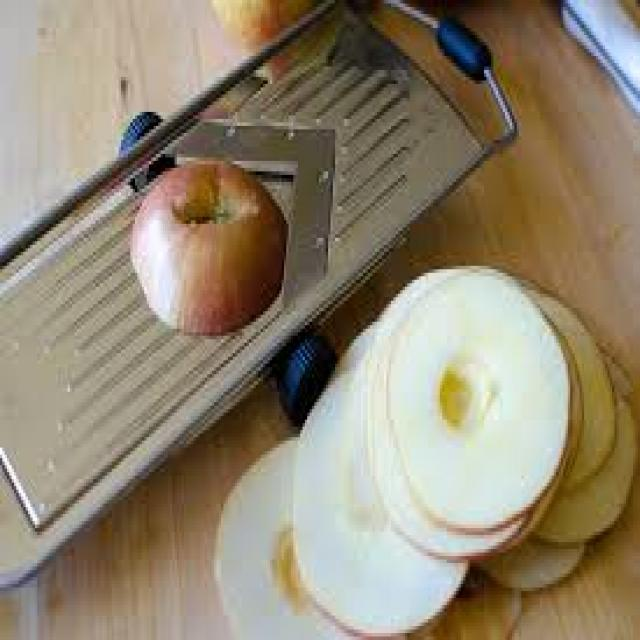Apple: (388, 274, 564, 529), (295, 382, 452, 625), (134, 164, 286, 328), (214, 444, 338, 640)
